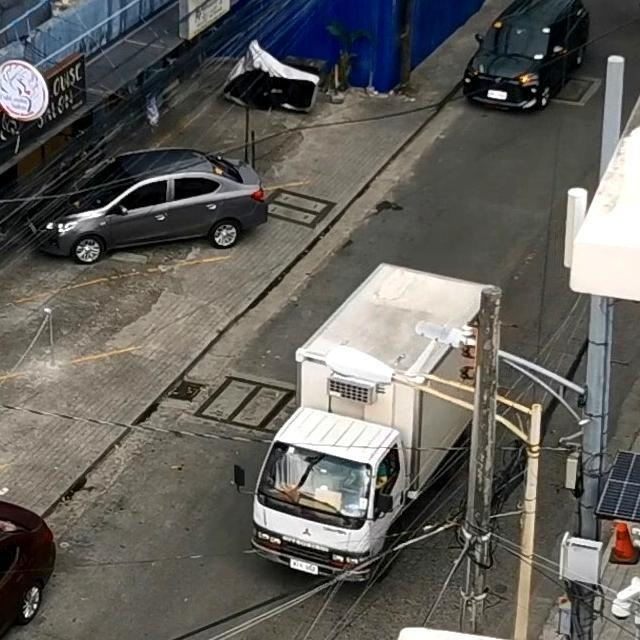Truck: (244, 239, 510, 616)
